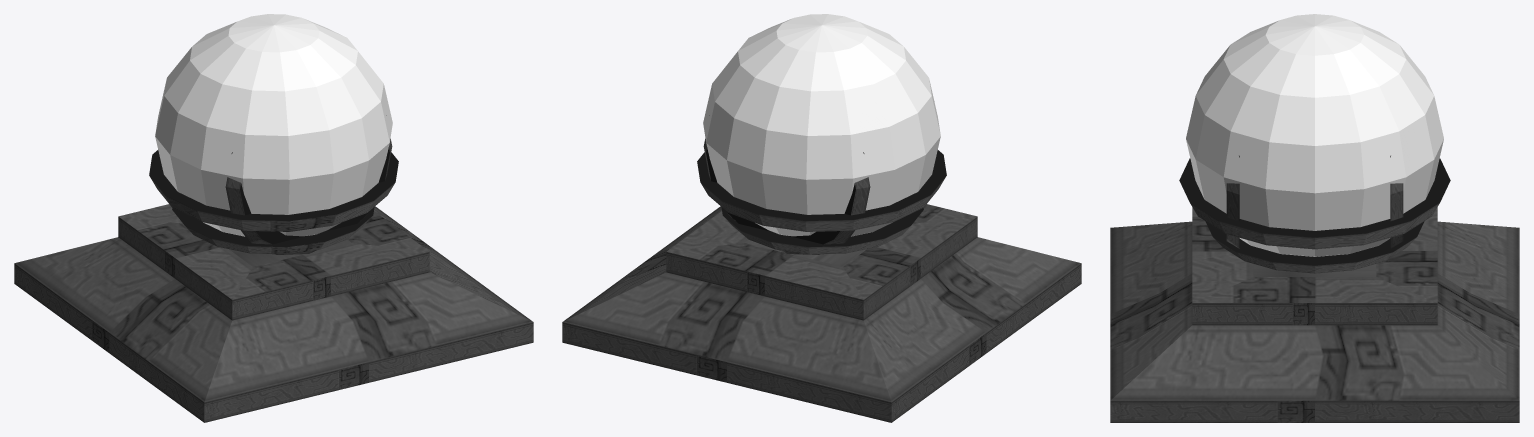
Rendered from lv8_obj_lightsw.dae.
3 views of the same model, side by side, from view 1: azimuth 30°, elevation 25°; view 2: azimuth 150°, elevation 25°; view 3: azimuth 270°, elevation 25° (orthographic). The views are drawn at different scales.
Visible parts, largest first — view 1: Shape 1, Shape 0; view 2: Shape 1, Shape 0; view 3: Shape 1, Shape 0.
Boxes of the visible parts, x1,y1,x2,y2 form: Shape 1: (14, 115, 533, 422); Shape 0: (155, 14, 392, 236); Shape 1: (562, 115, 1081, 422); Shape 0: (703, 14, 940, 236); Shape 1: (1110, 155, 1519, 422); Shape 0: (1186, 14, 1443, 256).
Size of the model in its own units: 150 by 125 by 150.
2 materials, 2 textured.
